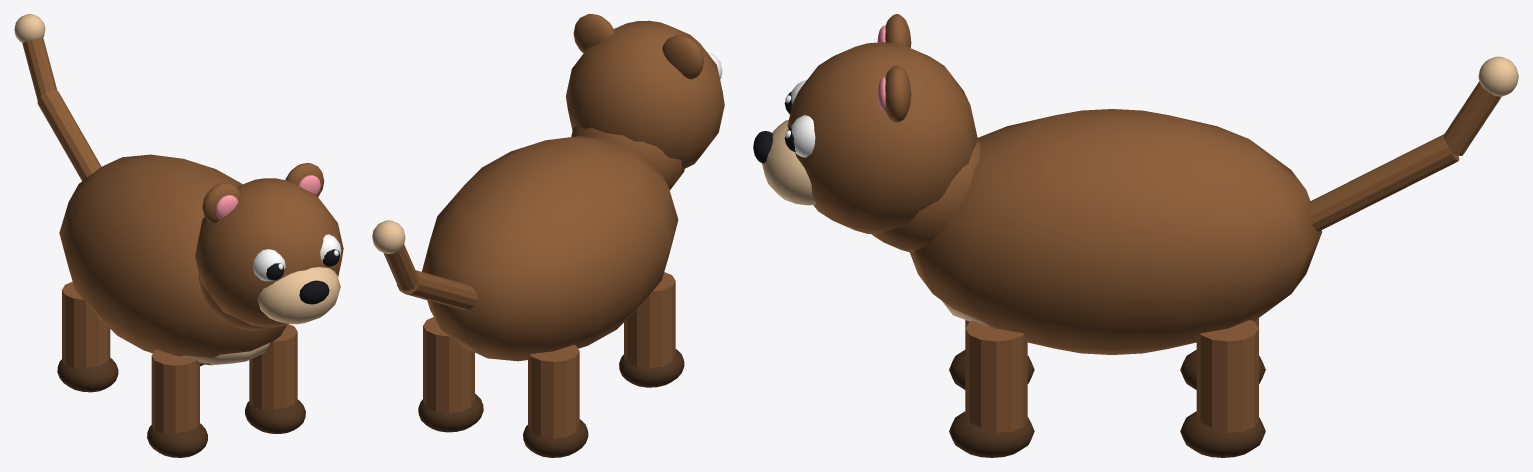
3 renders of one model, left to right at view 1: azimuth 30°, elevation 25°; view 2: azimuth 150°, elevation 25°; view 3: azimuth 270°, elevation 25°, orthographic. The views are drawn at different scales.
Parts seen in each view (by area): view 1: Monkey; view 2: Monkey; view 3: Monkey.
Boxes of the visible parts, <box> form: Monkey: <box>14,14,343,457</box>; Monkey: <box>372,14,724,457</box>; Monkey: <box>753,14,1518,457</box>.
Bounding box in the file's own units: 1.7 × 2.69 × 4.92.
Materials: 1 (1 with a texture image).
